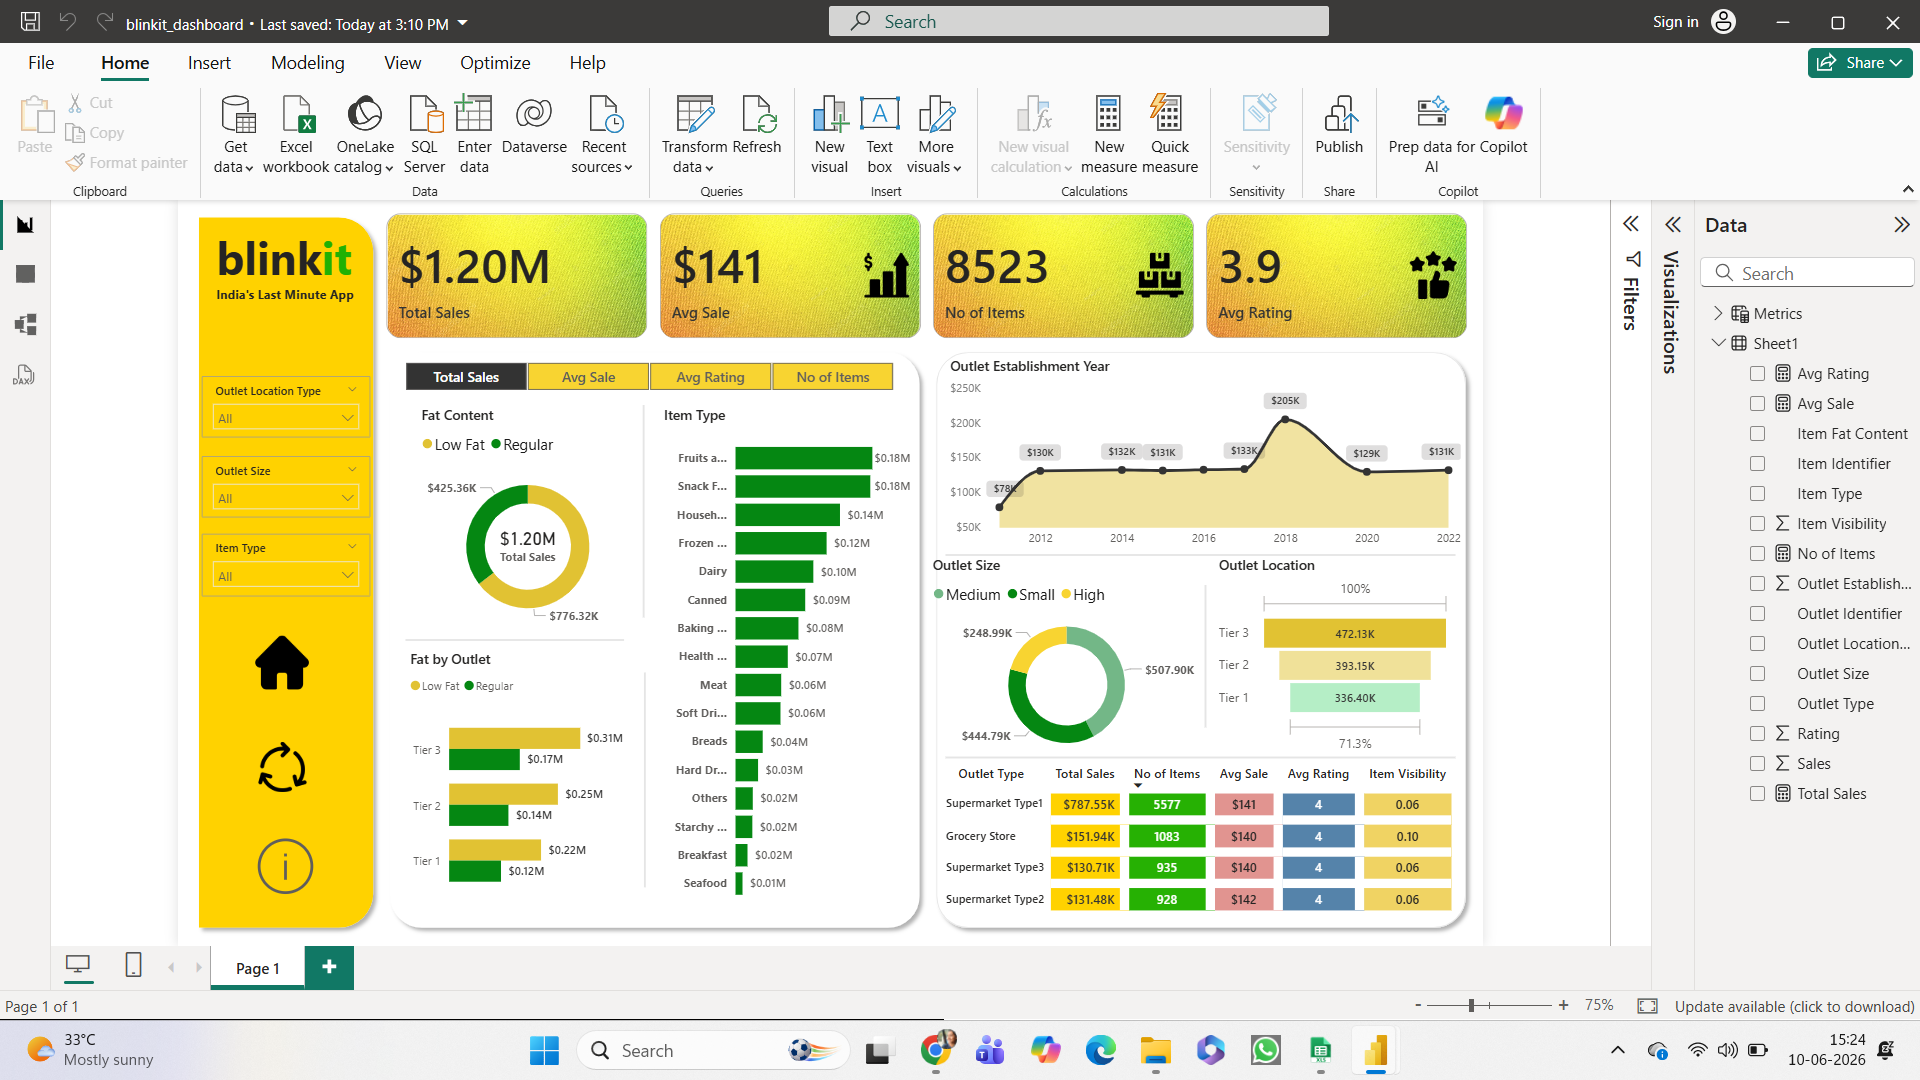

This screenshot's page, from the dashboard's own definition file:
{"tool":"powerbi","page":{"name":"Page 1","canvas":[1400,800],"ordinal":0},"visuals":[{"type":"shape","box":[13.4,9.4,205.1,780.2],"z":0},{"type":"textbox","box":[36.2,24.1,170.2,76.4],"z":1000},{"type":"textbox","box":[36.2,87.1,195.7,49.6],"z":2000},{"type":"cardVisual","fields":{"Data":["Sheet1.Total Sales","Sheet1.Avg Sale","Sheet1.No of Items","Sheet1.Avg Rating"]},"box":[218.6,10,1171.4,144.3],"z":3000},{"type":"shape","box":[218.5,154.2,585.8,635.4],"z":4000},{"type":"donutChart","title":"Fat Content","fields":{"Y":["Sheet1.Total Sales"],"Category":["Sheet1.Item Fat Content"]},"box":[256,219.8,238.6,252],"z":5000},{"type":"slicer","fields":{"Values":["Metrics.Metrics"]},"box":[218.5,167.6,572.4,42.9],"z":6000},{"type":"cardVisual","fields":{"Data":["Sheet1.Total Sales"]},"box":[323.1,332.4,104.6,77.7],"z":7000},{"type":"clusteredBarChart","title":"Fat by Outlet ","fields":{"Y":["Sheet1.Total Sales"],"Category":["Sheet1.Outlet Location Type"],"Series":["Sheet1.Item Fat Content"]},"box":[244,481.2,238.6,281.5],"z":8000},{"type":"clusteredBarChart","title":" Item Type","fields":{"Y":["Sheet1.Total Sales"],"Category":["Sheet1.Item Type"]},"box":[516.1,219.8,274.8,542.9],"z":9000},{"type":"shape","box":[804.3,154.2,585.8,635.4],"z":10000},{"type":"lineChart","title":" Outlet Establishment Year","fields":{"Category":["Sheet1.Outlet Establishment Year"],"Y":["Sheet1.Total Sales"]},"box":[823.1,167.6,557.6,213.1],"z":11000},{"type":"shape","box":[823.1,245.3,546.9,270.8],"z":12000},{"type":"donutChart","title":"Outlet Size","fields":{"Y":["Sheet1.Total Sales"],"Category":["Sheet1.Outlet Size"]},"box":[804.3,380.7,297.6,226.5],"z":13000},{"type":"funnel","title":"Outlet Location ","fields":{"Y":["Sum(Sheet1.Sales)"],"Category":["Sheet1.Outlet Location Type"]},"box":[1111.3,380.7,258.7,217.2],"z":14000},{"type":"shape","box":[867.3,412.9,469.2,152.8],"z":15000},{"type":"shape","box":[823.1,462.5,546.9,270.8],"z":16000},{"type":"pivotTable","fields":{"Rows":["Sheet1.Outlet Type"],"Values":["Sheet1.Total Sales","Sheet1.No of Items","Sheet1.Avg Sale","Sheet1.Avg Rating","Avg(Sheet1.Item Visibility)"]},"box":[813.7,597.9,576.4,179.6],"z":17000},{"type":"shape","box":[270.8,219.8,457.1,227.9],"z":18000},{"type":"shape","box":[261.4,506.7,478.6,230.6],"z":19000},{"type":"shape","box":[244,336.5,234.6,270.8],"z":20000},{"type":"slicer","fields":{"Values":["Sheet1.Outlet Location Type"]},"box":[25.5,189,181,65.7],"z":21000},{"type":"slicer","fields":{"Values":["Sheet1.Outlet Size"]},"box":[25.5,274.8,181,65.7],"z":22000},{"type":"slicer","fields":{"Values":["Sheet1.Item Type"]},"box":[25.5,357.9,181,67],"z":23000},{"type":"actionButton","box":[77.7,676.9,88.5,75.1],"z":24000},{"type":"actionButton","box":[87.1,473.2,46.9,67],"z":25000},{"type":"image","box":[76.4,462.5,71,67],"z":26000},{"type":"actionButton","box":[87.1,576.4,60.3,63],"z":27000},{"type":"image","box":[76.4,576.4,71,63],"z":28000}]}

Visuals, with their boxes on the page's 1400x800 design canvas (x1, y1, x2, y2). These are canvas units, not pixel positions in the 1920x1080 screenshot, which may show the page scaled, cropped or inside an application window:
shape: bbox=(13, 9, 218, 790)
textbox: bbox=(36, 24, 206, 100)
textbox: bbox=(36, 87, 232, 137)
cardVisual - Sheet1.Total Sales x Sheet1.Avg Sale: bbox=(219, 10, 1390, 154)
shape: bbox=(218, 154, 804, 790)
"Fat Content" donutChart: bbox=(256, 220, 495, 472)
slicer - Metrics.Metrics: bbox=(218, 168, 791, 210)
cardVisual - Sheet1.Total Sales: bbox=(323, 332, 428, 410)
"Fat by Outlet " clusteredBarChart: bbox=(244, 481, 483, 763)
" Item Type" clusteredBarChart: bbox=(516, 220, 791, 763)
shape: bbox=(804, 154, 1390, 790)
" Outlet Establishment Year" lineChart: bbox=(823, 168, 1381, 381)
shape: bbox=(823, 245, 1370, 516)
"Outlet Size" donutChart: bbox=(804, 381, 1102, 607)
"Outlet Location " funnel: bbox=(1111, 381, 1370, 598)
shape: bbox=(867, 413, 1336, 566)
shape: bbox=(823, 462, 1370, 733)
pivotTable - Sheet1.Outlet Type x Sheet1.Total Sales: bbox=(814, 598, 1390, 778)
shape: bbox=(271, 220, 728, 448)
shape: bbox=(261, 507, 740, 737)
shape: bbox=(244, 336, 479, 607)
slicer - Sheet1.Outlet Location Type: bbox=(26, 189, 206, 255)
slicer - Sheet1.Outlet Size: bbox=(26, 275, 206, 340)
slicer - Sheet1.Item Type: bbox=(26, 358, 206, 425)
actionButton: bbox=(78, 677, 166, 752)
actionButton: bbox=(87, 473, 134, 540)
image: bbox=(76, 462, 147, 530)
actionButton: bbox=(87, 576, 147, 639)
image: bbox=(76, 576, 147, 639)
